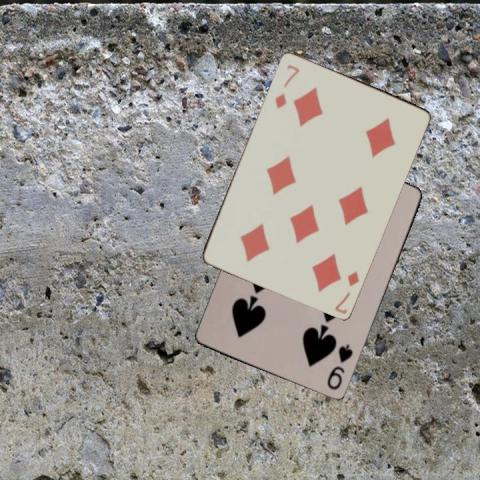7d: (271, 61, 301, 110), (331, 267, 361, 315)
9s: (324, 341, 355, 392)
